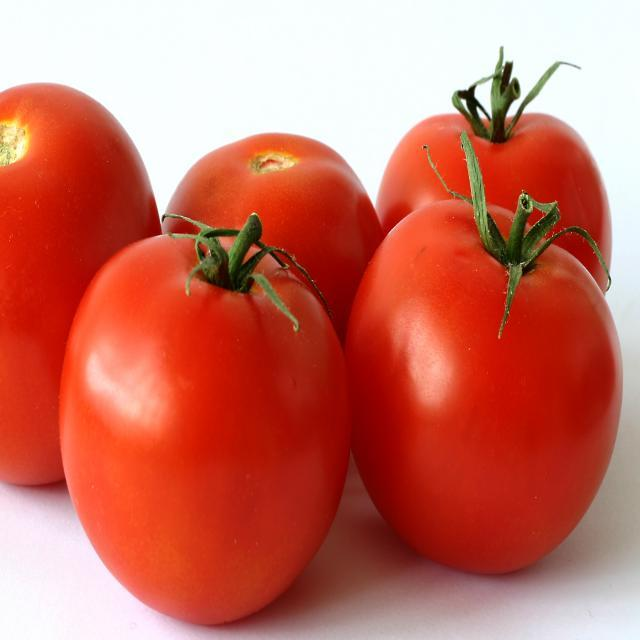TOMATO: (60, 231, 351, 626), (346, 197, 622, 578), (0, 82, 166, 487), (373, 84, 640, 278), (378, 103, 615, 288), (162, 123, 386, 290)
